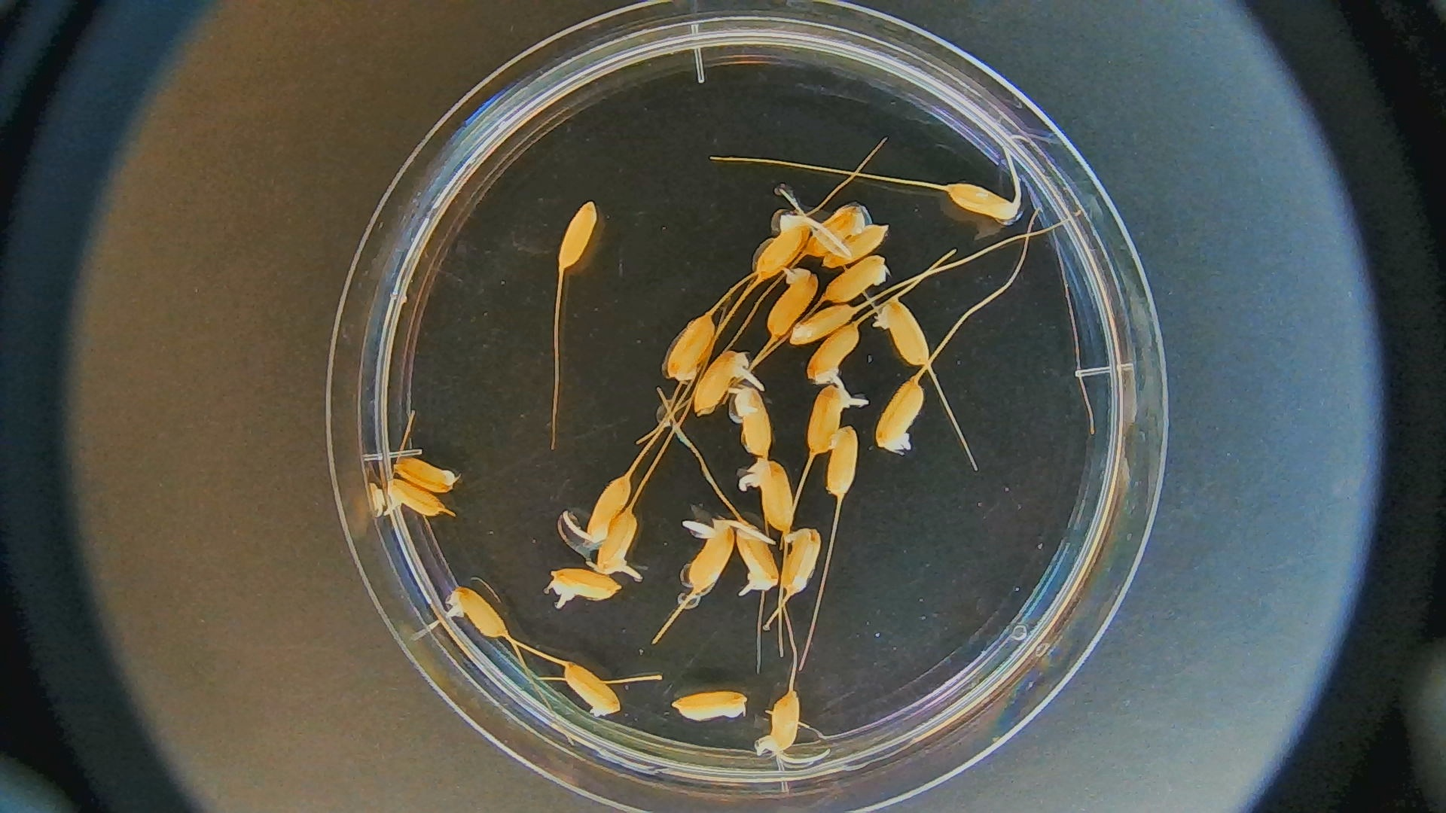no: (876, 380, 927, 453), (665, 316, 717, 379), (823, 254, 889, 303), (805, 203, 867, 254), (564, 662, 621, 717), (452, 586, 512, 638), (825, 226, 891, 270), (557, 200, 597, 268), (556, 199, 596, 266), (781, 527, 819, 594), (792, 304, 855, 343), (391, 458, 458, 494), (670, 692, 749, 721), (827, 427, 859, 495)
yes: (739, 459, 792, 533), (873, 298, 929, 367), (755, 215, 815, 279), (687, 519, 736, 593), (768, 268, 819, 336), (808, 324, 860, 385), (592, 508, 639, 574), (695, 352, 743, 416), (584, 475, 631, 540), (761, 690, 804, 757), (947, 181, 1018, 221), (737, 524, 777, 595), (731, 384, 771, 452), (550, 571, 620, 609), (809, 385, 847, 455), (384, 478, 447, 517)
